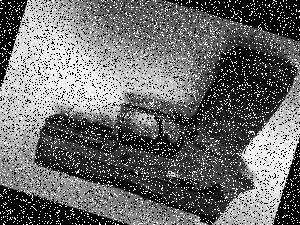handgun: (23, 0, 300, 225)
